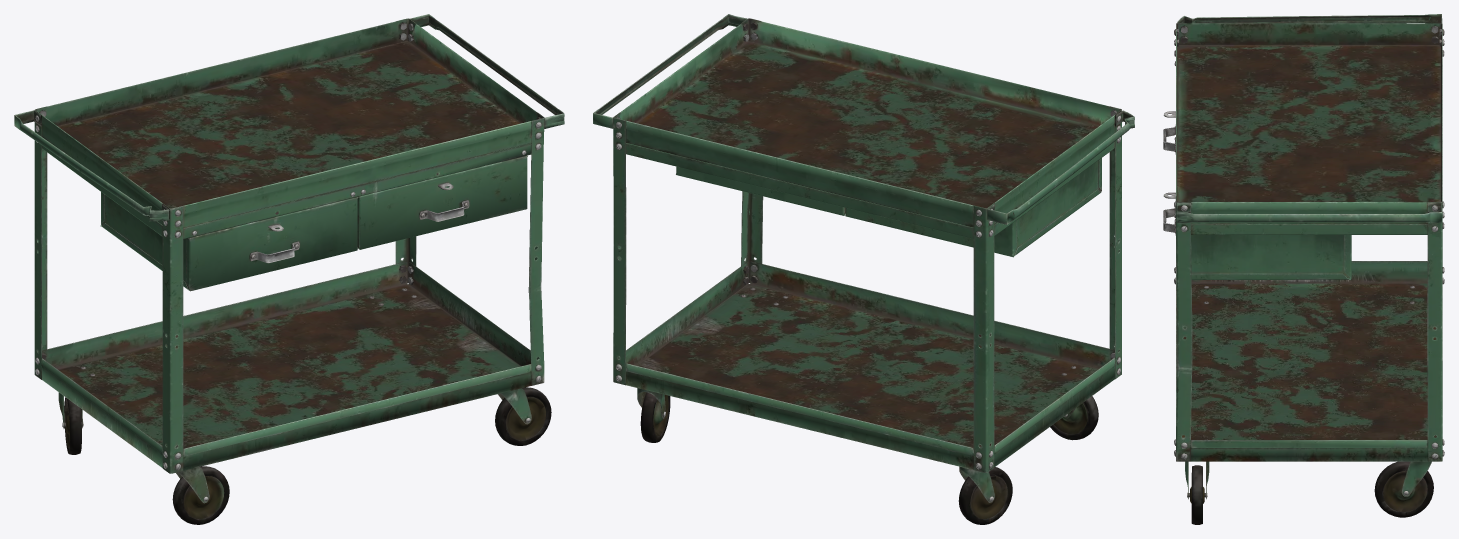
The model's file is tool_cart_1k.glb.
3 renders of one model, left to right at view 1: azimuth 30°, elevation 25°; view 2: azimuth 150°, elevation 25°; view 3: azimuth 270°, elevation 25°, orthographic. The views are drawn at different scales.
Parts seen in each view (by area): view 1: tool_cart; view 2: tool_cart; view 3: tool_cart.
Part boxes in pixels (left/top/right/bottom): tool_cart: left=14, top=14, right=564, bottom=524; tool_cart: left=593, top=14, right=1134, bottom=524; tool_cart: left=1163, top=14, right=1444, bottom=524.
Bounding box in the file's own units: 1.27 × 0.9647 × 0.7537.
1 material, 1 textured.
